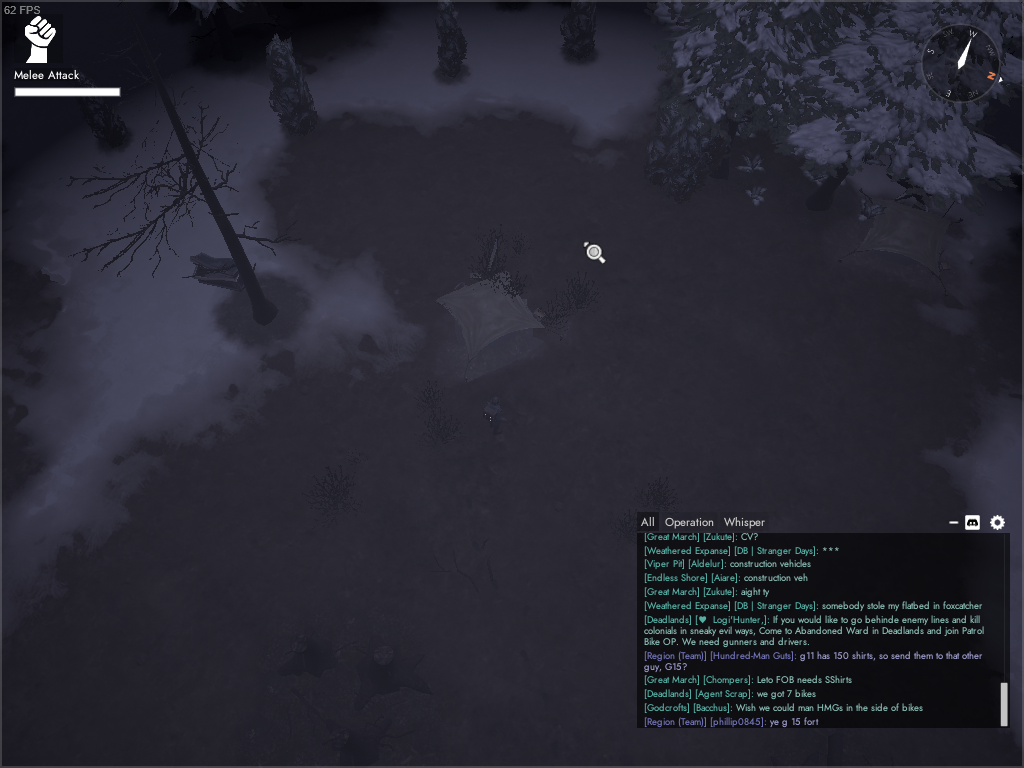foxhole: (426, 233, 565, 385), (837, 186, 964, 295)
player: (480, 395, 507, 437)
storage_box: (190, 251, 247, 293)
